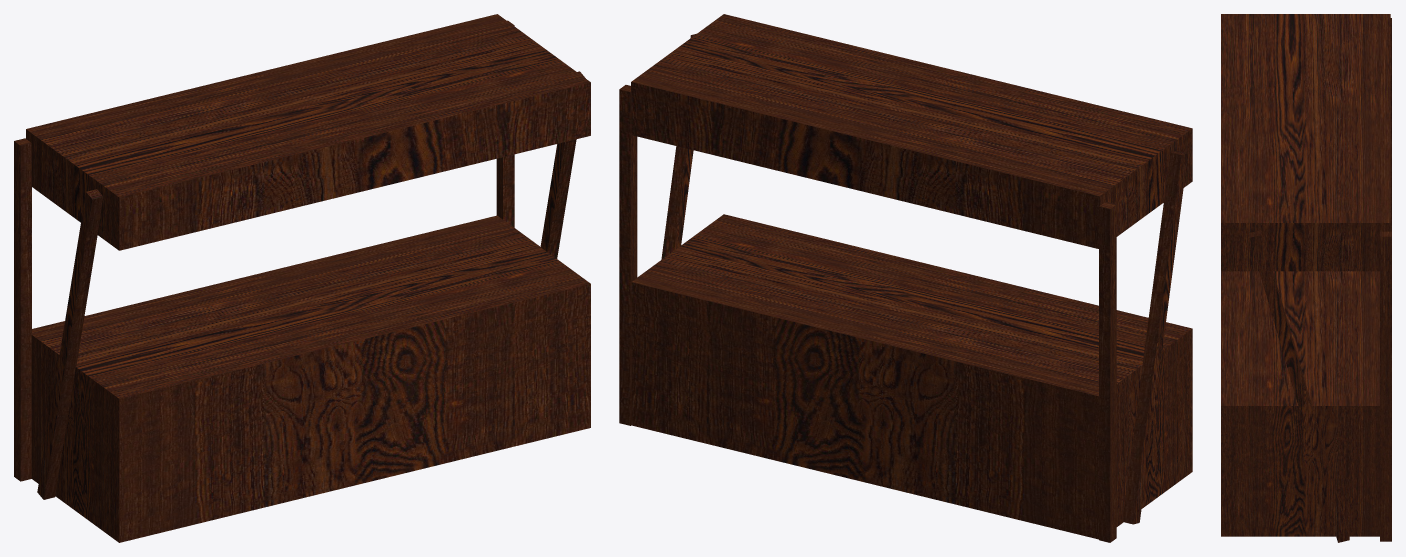
The model's file is Cafeteria.fbx.
The picture shows the model from 3 angles, left to right: view 1: azimuth 30°, elevation 25°; view 2: azimuth 150°, elevation 25°; view 3: azimuth 270°, elevation 25°; orthographic projection. The views are drawn at different scales.
Visible parts, largest first — view 1: Cafeteria; view 2: Cafeteria; view 3: Cafeteria.
Part boxes in pixels (x1,y1,x2,y2): Cafeteria: (14,14,590,542); Cafeteria: (619,14,1192,542); Cafeteria: (1221,14,1391,542).
Bounding box in the file's own units: 359 × 241 × 118.
